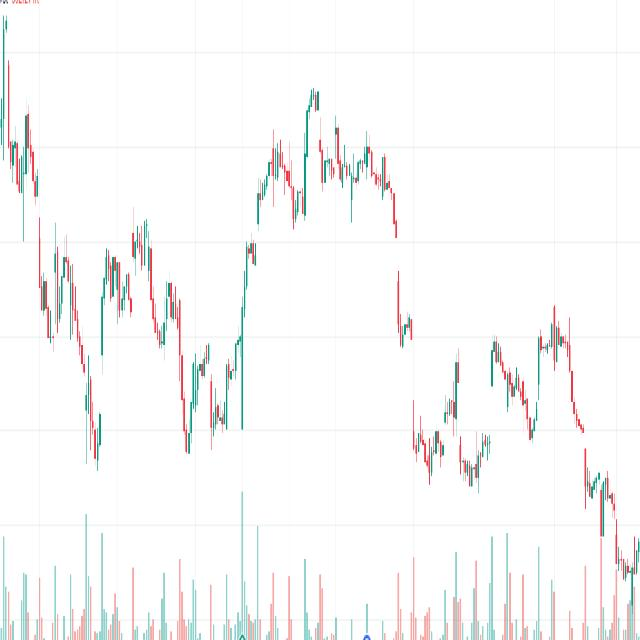Head-Shoulders: (92, 207, 188, 458)
